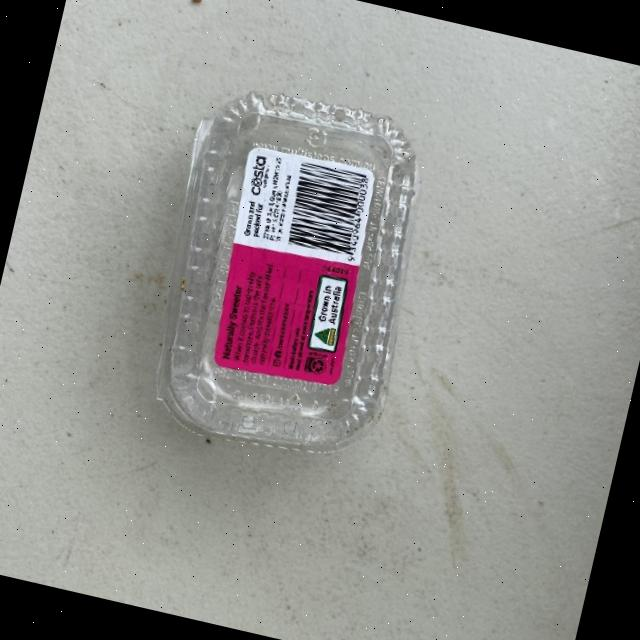plastic: (128, 72, 448, 474)
